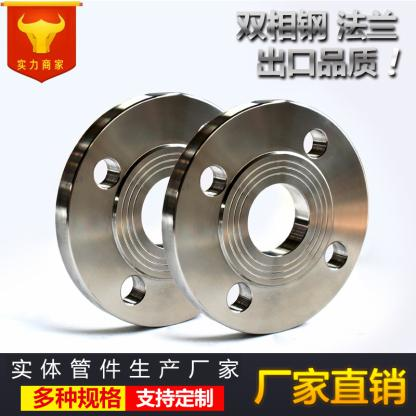FOD: (159, 96, 372, 336), (52, 89, 243, 329)
